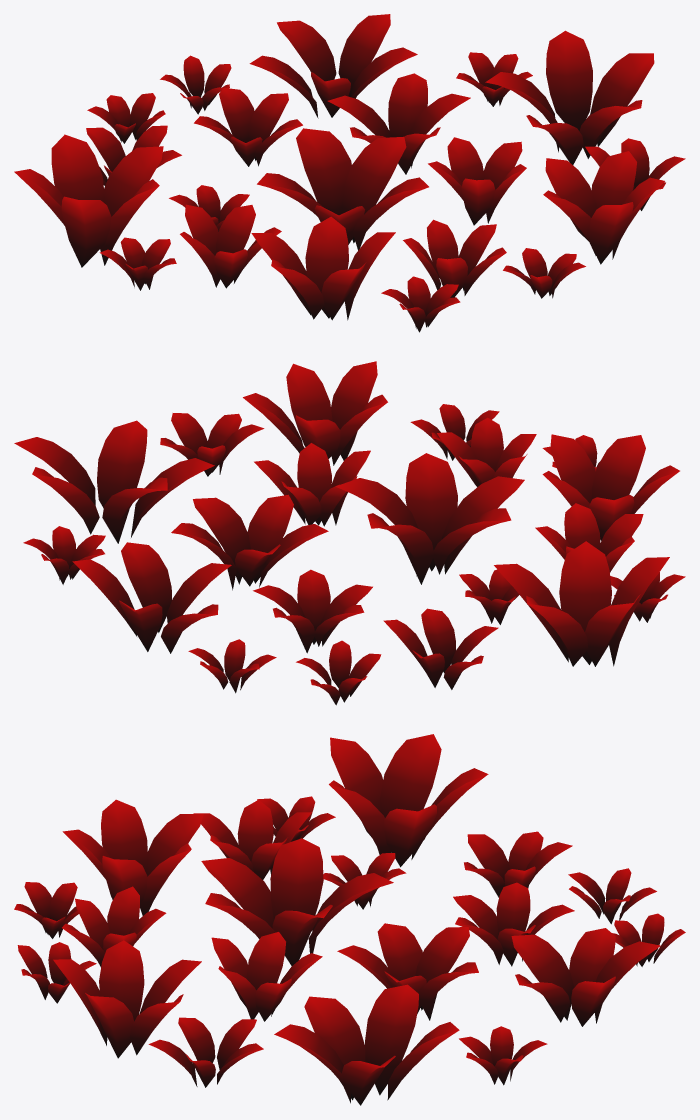
The model's file is grass model v.2.fbx.
3 views of the same model, one above another, from view 1: azimuth 30°, elevation 25°; view 2: azimuth 150°, elevation 25°; view 3: azimuth 270°, elevation 25° (orthographic). The views are drawn at different scales.
Parts seen in each view (by area): view 1: Grass; view 2: Grass; view 3: Grass.
Boxes of the visible parts, x1,y1,x2,y2 form: Grass: (14,14,685,332); Grass: (14,361,685,705); Grass: (14,734,685,1105).
Size of the model in its own units: 632 by 95.74 by 565.
